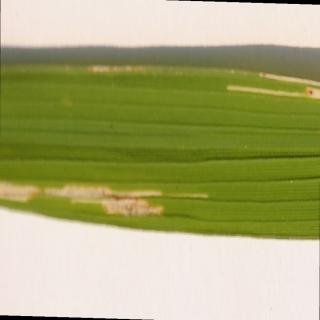Hawar-Daun: (0, 180, 164, 220), (225, 69, 320, 103), (71, 61, 166, 76)
